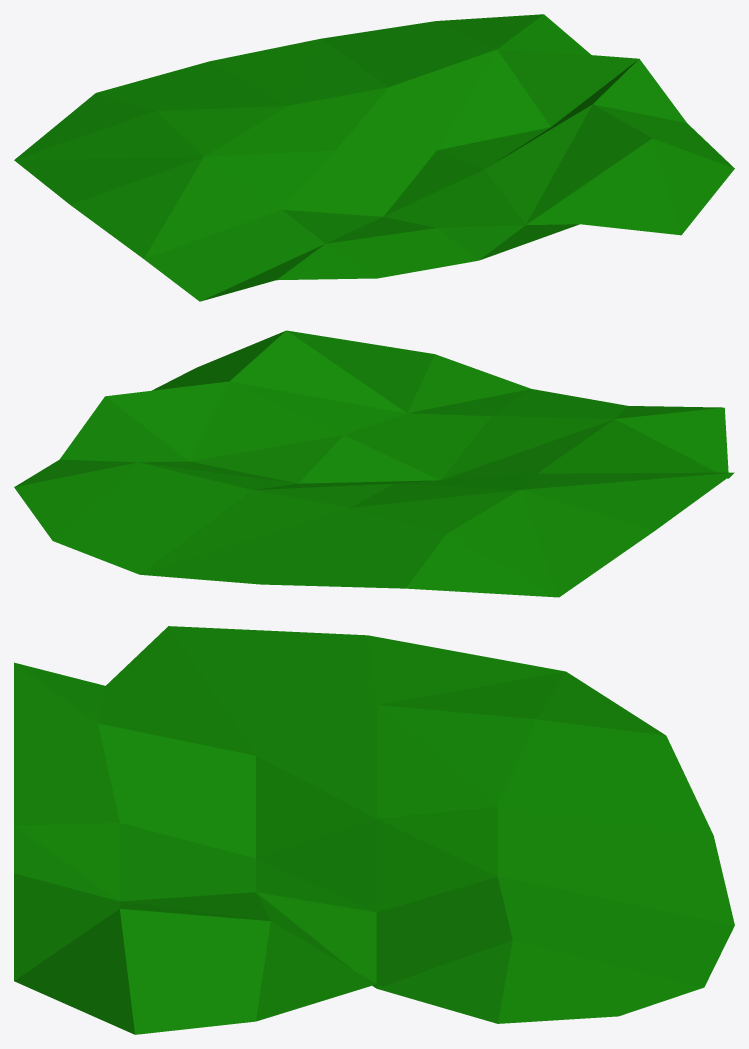
The model's file is AtomicLake.FBX.
3 renders of one model, top to bottom at view 1: azimuth 30°, elevation 25°; view 2: azimuth 150°, elevation 25°; view 3: azimuth 270°, elevation 25°, orthographic. The views are drawn at different scales.
Visible parts, largest first — view 1: AtomicLake01; view 2: AtomicLake01; view 3: AtomicLake01.
Boxes of the visible parts, box(x1,y1,x2,y2) form: AtomicLake01: box(14, 14, 734, 301); AtomicLake01: box(14, 330, 734, 597); AtomicLake01: box(14, 626, 734, 1034).
Bounding box in the file's own units: 94191 × 10171 × 80366.
